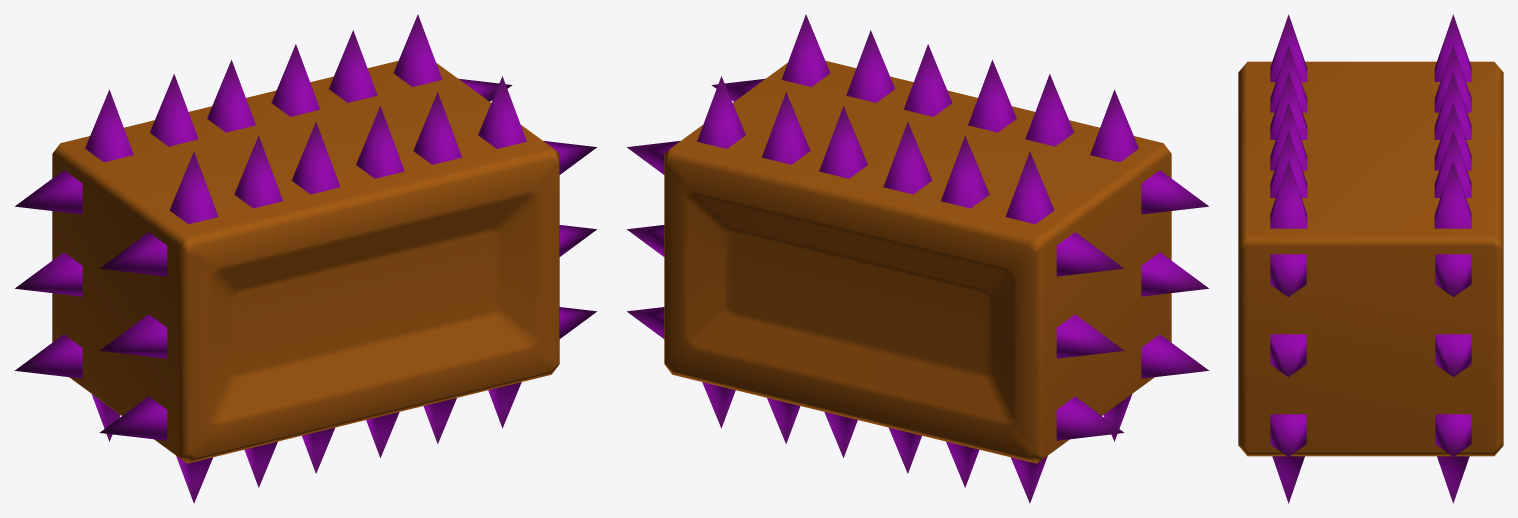
The model's file is O_Platform_Spikes_L_01.fbx.
3 views of the same model, side by side, from view 1: azimuth 30°, elevation 25°; view 2: azimuth 150°, elevation 25°; view 3: azimuth 270°, elevation 25° (orthographic). The views are drawn at different scales.
Parts seen in each view (by area): view 1: Platform_big.005; view 2: Platform_big.005; view 3: Platform_big.005.
Part boxes in pixels (x1=…): Platform_big.005: x1=14, y1=14, x2=597, y2=503; Platform_big.005: x1=626, y1=14, x2=1209, y2=503; Platform_big.005: x1=1238, y1=14, x2=1503, y2=503.
Bounding box in the file's own units: 2.3 × 1.55 × 1.09.
